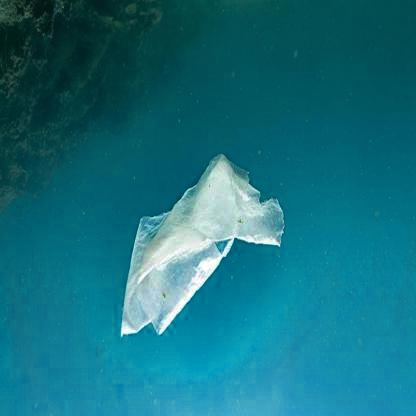pbag: (119, 152, 284, 339)
